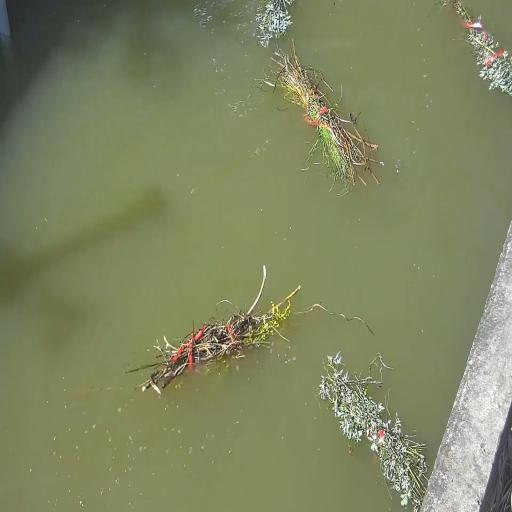twig: (141, 265, 300, 392), (319, 352, 427, 512), (263, 43, 378, 190), (451, 0, 512, 96), (256, 0, 294, 46)
